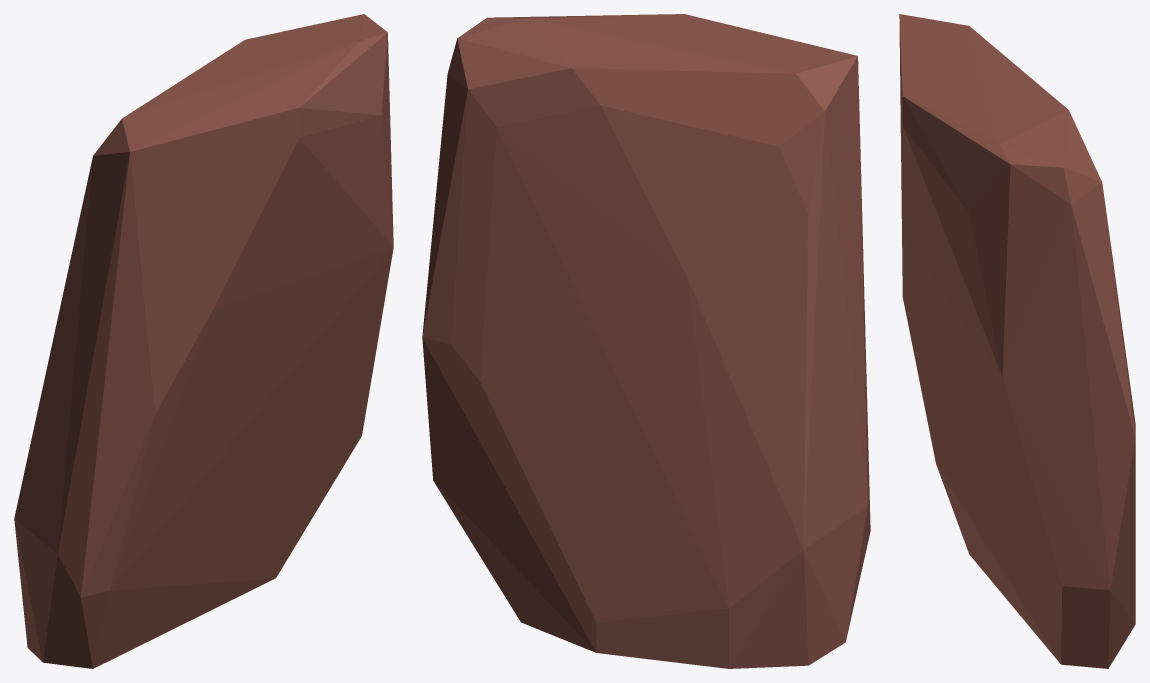
File: mouth_cup055.obj
3 views of the same model, side by side, from view 1: azimuth 30°, elevation 25°; view 2: azimuth 150°, elevation 25°; view 3: azimuth 270°, elevation 25° (orthographic).
Parts seen in each view (by area): view 1: mouth_cup055_mouth_cup055.001; view 2: mouth_cup055_mouth_cup055.001; view 3: mouth_cup055_mouth_cup055.001.
Boxes of the visible parts, <box> form: mouth_cup055_mouth_cup055.001: <box>14,14,393,668</box>; mouth_cup055_mouth_cup055.001: <box>422,14,870,668</box>; mouth_cup055_mouth_cup055.001: <box>899,14,1135,668</box>.
Bounding box in the file's own units: 0.0755 × 0.1092 × 0.0425.
